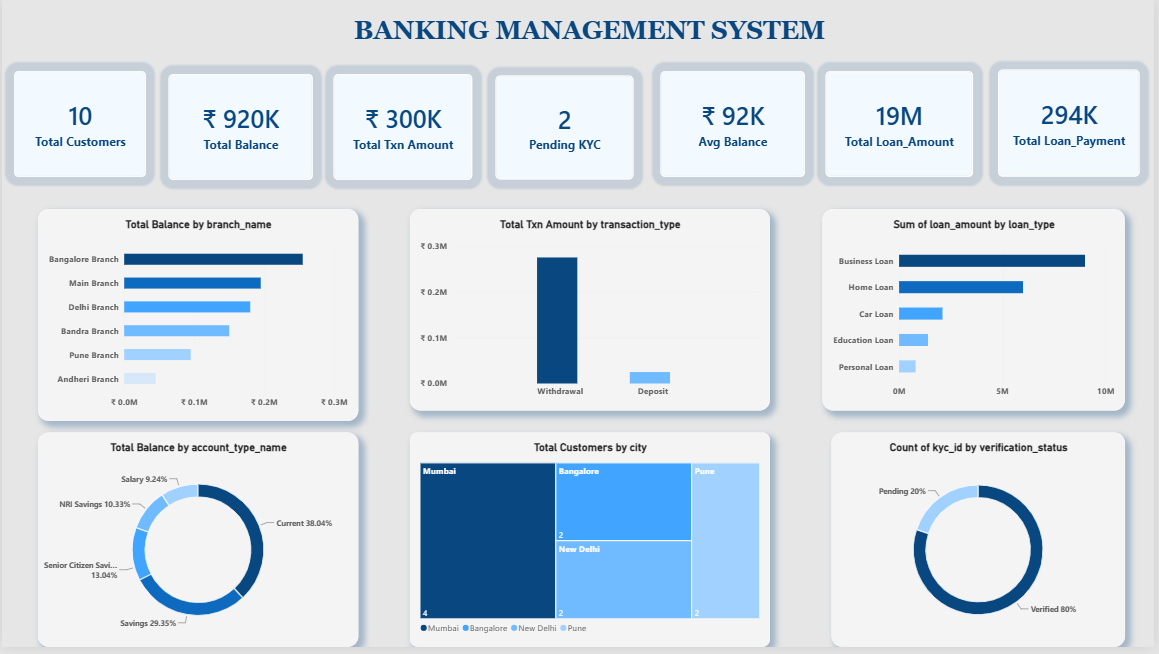

The dashboard page shown, as its layout file describes it:
{"tool":"powerbi","page":{"name":"Page 1","canvas":[1920,1080],"ordinal":0},"visuals":[{"type":"cardVisual","fields":{"Data":["ATMTransactions.Total Customers"]},"box":[20,120,220,176.7],"z":0,"group":"g1"},{"type":"cardVisual","fields":{"Data":["ATMTransactions.Total Balance"]},"box":[276.7,123.4,241,176.6],"z":1,"group":"g1"},{"type":"cardVisual","fields":{"Data":["ATMTransactions.Total Txn Amount"]},"box":[553.3,123.4,231.4,176.6],"z":2,"group":"g1"},{"type":"cardVisual","fields":{"Data":["ATMTransactions.Pending KYC"]},"box":[823.3,126.7,230,173.3],"z":3,"group":"g1"},{"type":"cardVisual","fields":{"Data":["ATMTransactions.Avg Balance"]},"box":[1096.7,120,241,176.6],"z":4,"group":"g1"},{"type":"cardVisual","fields":{"Data":["Sum(Loans.loan_amount)"]},"box":[1373.3,120,245.7,176.6],"z":5,"group":"g1"},{"type":"cardVisual","fields":{"Data":["Sum(Loan Payments.payment_amount)"]},"box":[1660,116.7,236.2,178.9],"z":6,"group":"g1"},{"type":"clusteredBarChart","fields":{"Category":["Branches.branch_name"],"Y":["ATMTransactions.Total Balance"]},"box":[58.8,350,534,353.2],"z":7},{"type":"donutChart","fields":{"Category":["AccountTypes.account_type_name"],"Y":["ATMTransactions.Total Balance"]},"box":[58.8,723.5,534,357.4],"z":8},{"type":"treemap","fields":{"Group":["Customers.city"],"Values":["ATMTransactions.Total Customers"]},"box":[679.4,723.5,600,357.4],"z":9},{"type":"columnChart","fields":{"Category":["ATMTransactions.transaction_type"],"Y":["ATMTransactions.Total Txn Amount"]},"box":[679.4,350,600,336.2],"z":10},{"type":"barChart","fields":{"Category":["Loans.loan_type"],"Y":["Sum(Loans.loan_amount)"]},"box":[1367.6,350,504.3,336.2],"z":11},{"type":"donutChart","fields":{"Category":["KYC.verification_status"],"Y":["CountNonNull(KYC.kyc_id)"]},"box":[1382.4,723.5,489.4,357.4],"z":12},{"type":"group","id":"g1","title":"Group 1","box":[20,116.7,1876.2,183.3],"z":13},{"type":"textbox","box":[208.8,26.5,1538.2,67.6],"z":14}]}

Visuals, with their boxes in screenshot pixels (x1, y1, x2, y2), scaled from the page's 1920x1080 canvas onto the 1159x654 screenshot:
cardVisual - ATMTransactions.Total Customers: bbox=(12, 73, 145, 180)
cardVisual - ATMTransactions.Total Balance: bbox=(167, 75, 313, 182)
cardVisual - ATMTransactions.Total Txn Amount: bbox=(334, 75, 474, 182)
cardVisual - ATMTransactions.Pending KYC: bbox=(497, 77, 636, 182)
cardVisual - ATMTransactions.Avg Balance: bbox=(662, 73, 807, 180)
cardVisual - Sum(Loans.loan_amount): bbox=(829, 73, 977, 180)
cardVisual - Sum(Loan Payments.payment_amount): bbox=(1002, 71, 1145, 179)
clusteredBarChart - Branches.branch_name x ATMTransactions.Total Balance: bbox=(35, 212, 358, 426)
donutChart - AccountTypes.account_type_name x ATMTransactions.Total Balance: bbox=(35, 438, 358, 653)
treemap - Customers.city x ATMTransactions.Total Customers: bbox=(410, 438, 772, 653)
columnChart - ATMTransactions.transaction_type x ATMTransactions.Total Txn Amount: bbox=(410, 212, 772, 416)
barChart - Loans.loan_type x Sum(Loans.loan_amount): bbox=(826, 212, 1130, 416)
donutChart - KYC.verification_status x CountNonNull(KYC.kyc_id): bbox=(834, 438, 1130, 653)
"Group 1" group: bbox=(12, 71, 1145, 182)
textbox: bbox=(126, 16, 1055, 57)
